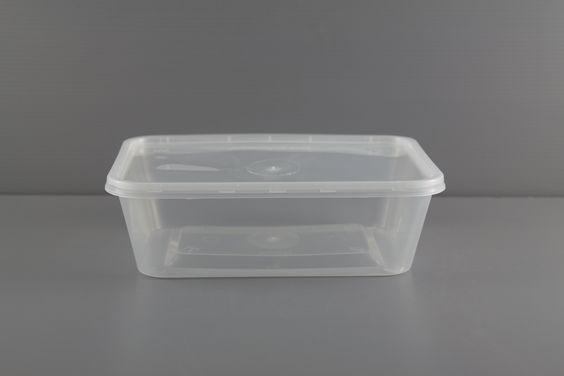PS: (106, 132, 445, 278)
